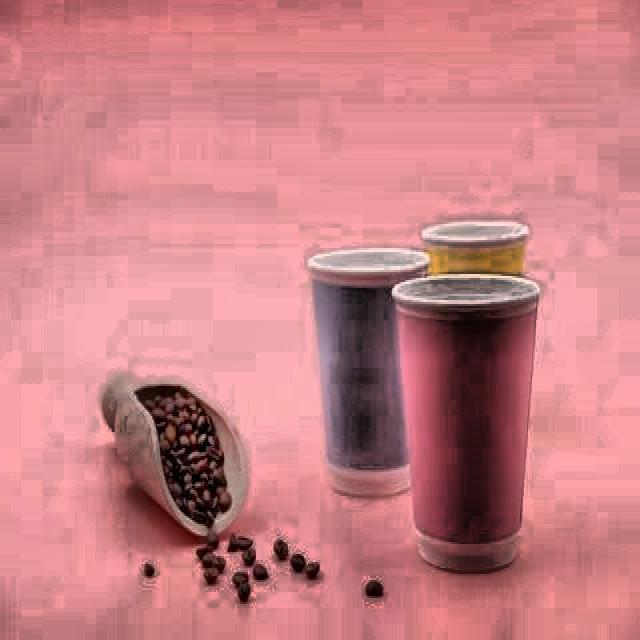Cup: (392, 272, 548, 582), (308, 238, 437, 504)
